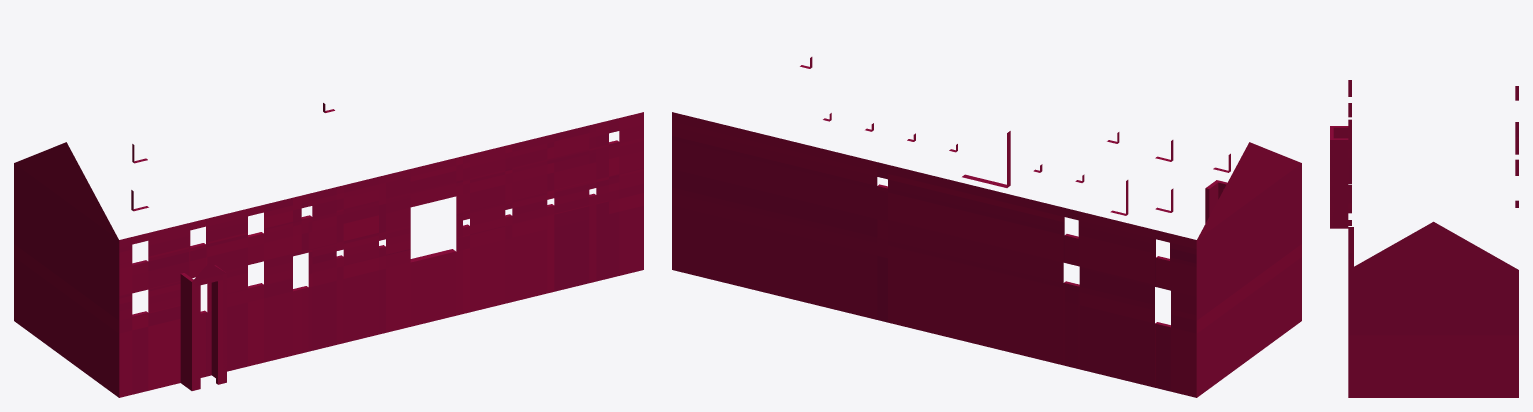
File: SM_Bld_128_Masonry.glb
The picture shows the model from 3 angles, left to right: view 1: azimuth 30°, elevation 25°; view 2: azimuth 150°, elevation 25°; view 3: azimuth 270°, elevation 25°; orthographic projection. The views are drawn at different scales.
Visible parts, largest first — view 1: SM_Bld_128_Masonry; view 2: SM_Bld_128_Masonry; view 3: SM_Bld_128_Masonry.
Boxes of the visible parts, <box> form: SM_Bld_128_Masonry: <box>14,103,643,397</box>; SM_Bld_128_Masonry: <box>672,57,1301,397</box>; SM_Bld_128_Masonry: <box>1330,80,1518,397</box>.
Size of the model in its own units: 29.91 by 11.84 by 11.49.
